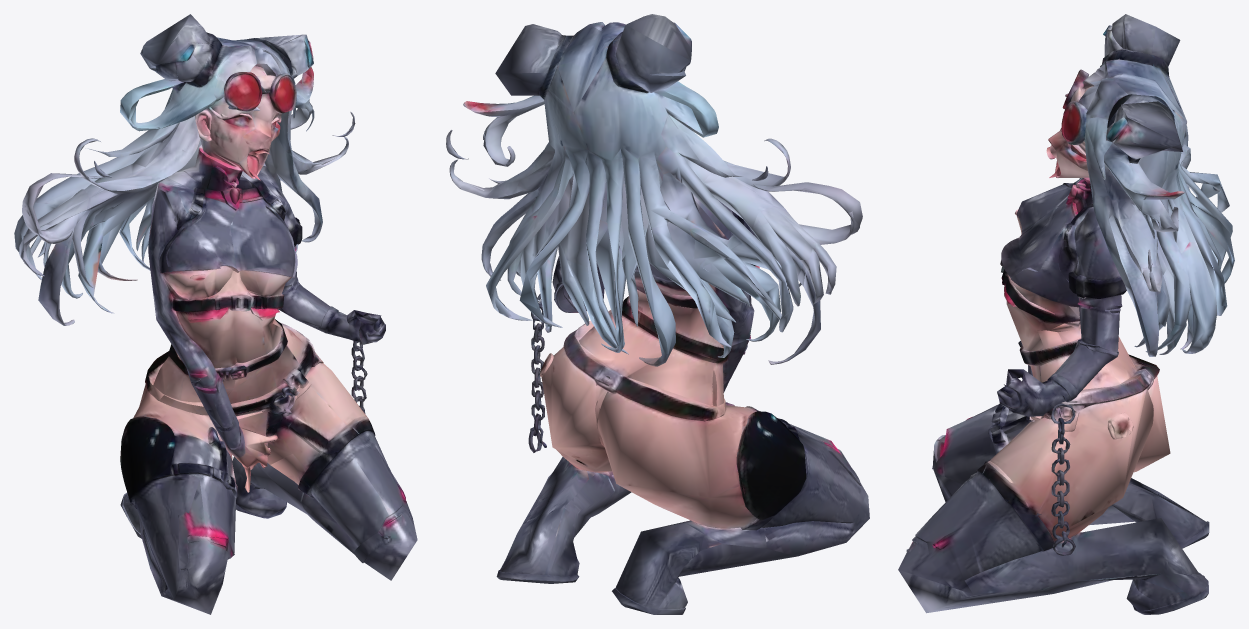
File: 01a19d9d-3dfa-7651-8a14-ad91ed0cc603.glb
The picture shows the model from 3 angles, left to right: view 1: azimuth 30°, elevation 25°; view 2: azimuth 150°, elevation 25°; view 3: azimuth 270°, elevation 25°; orthographic projection. The views are drawn at different scales.
Parts seen in each view (by area): view 1: model; view 2: model; view 3: model.
Boxes of the visible parts, x1=… form: model: x1=14, y1=14, x2=417, y2=614; model: x1=446, y1=14, x2=869, y2=614; model: x1=898, y1=14, x2=1234, y2=614.
Bounding box in the file's own units: 1.32 × 1.88 × 1.05.
1 material, 1 textured.
